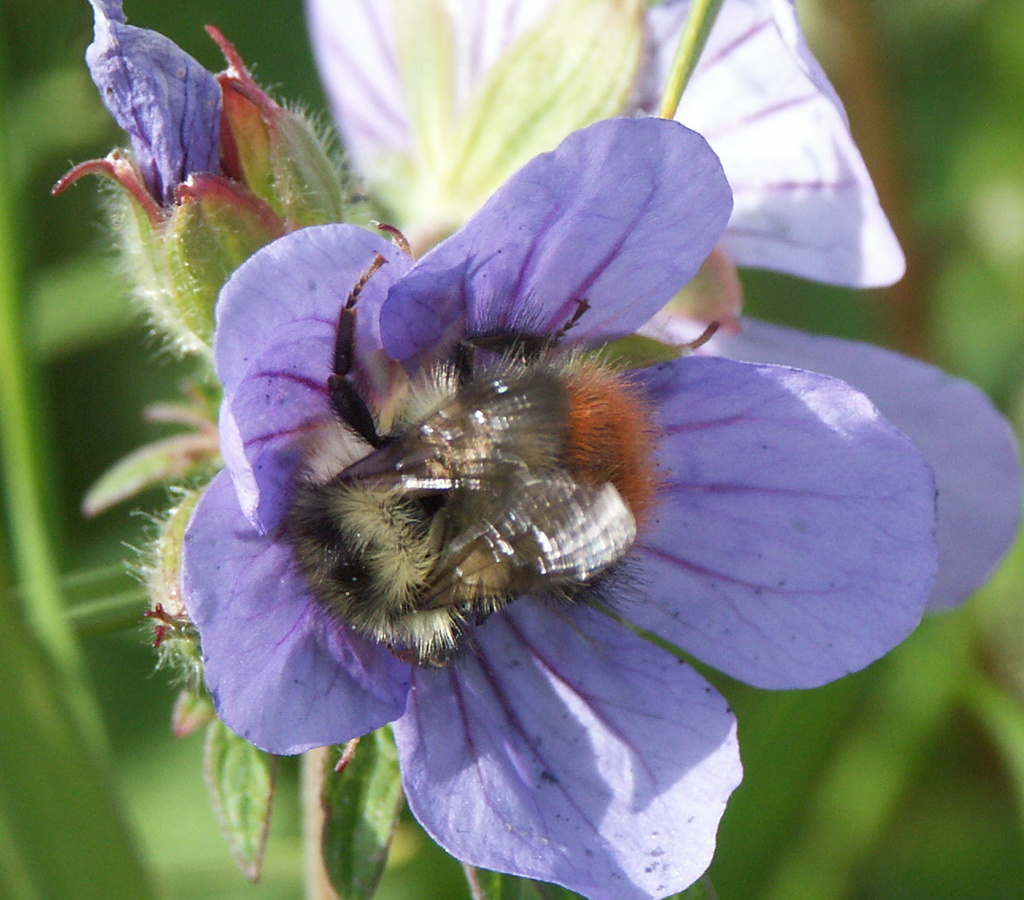bumblebee: (293, 252, 664, 668)
